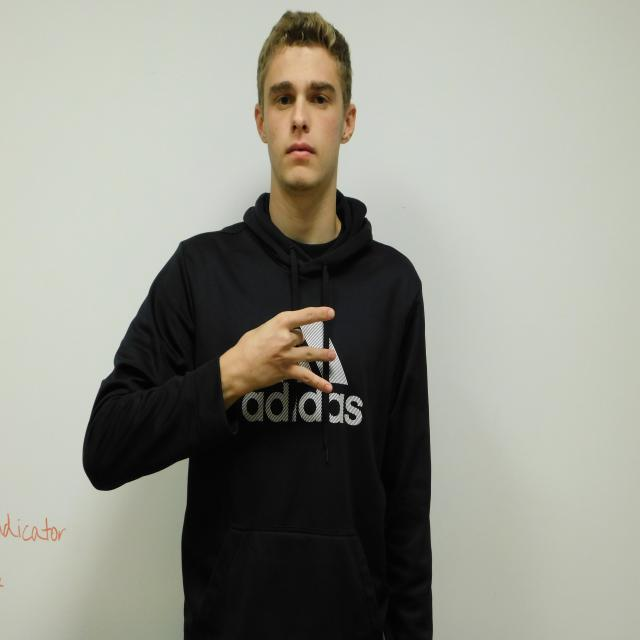like: (239, 307, 336, 393)
